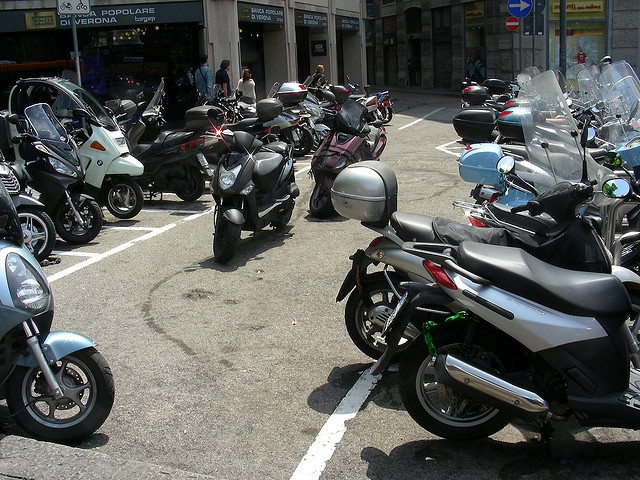non-vehicle: (332, 111, 640, 356), (368, 238, 640, 453), (1, 178, 118, 436), (0, 70, 148, 221), (105, 80, 211, 204), (9, 103, 101, 244), (210, 132, 300, 263), (309, 90, 389, 216), (178, 82, 272, 179), (0, 147, 57, 265), (218, 88, 312, 156), (452, 105, 534, 145), (300, 88, 330, 149)
